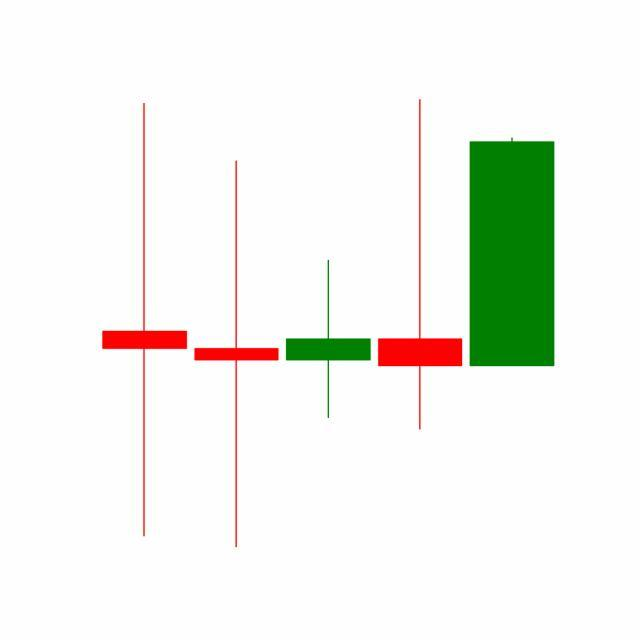Marubozu: (466, 135, 559, 369)
